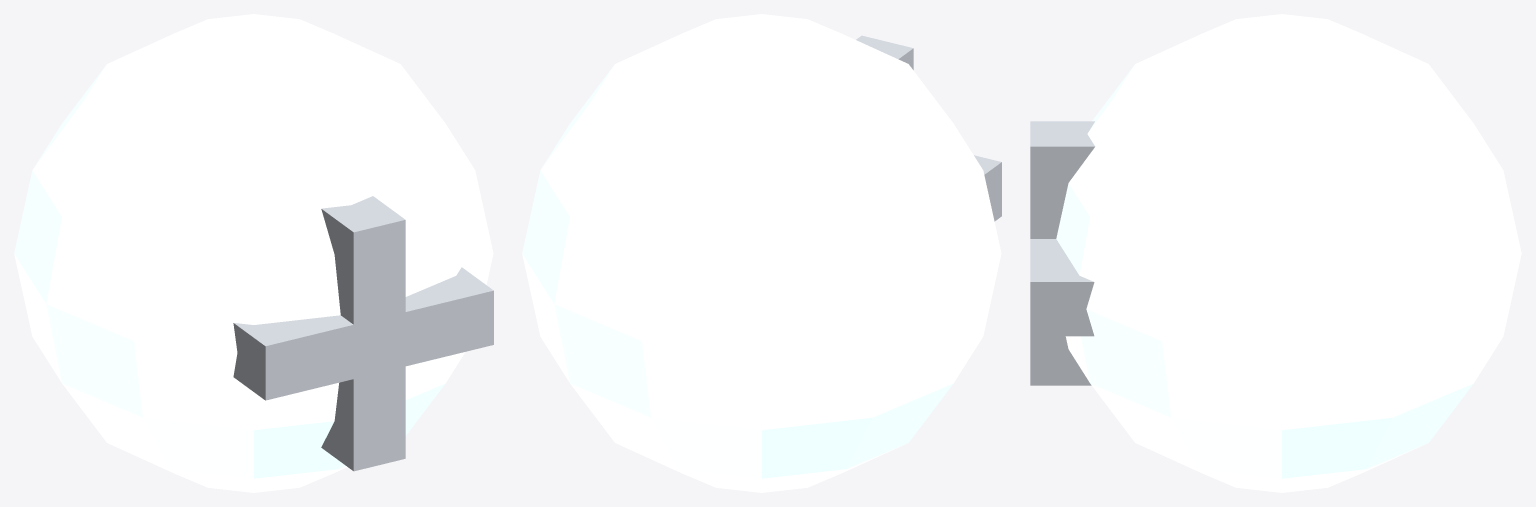
The model's file is PlusButton.fbx.
3 views of the same model, side by side, from view 1: azimuth 30°, elevation 25°; view 2: azimuth 150°, elevation 25°; view 3: azimuth 270°, elevation 25° (orthographic).
Parts seen in each view (by area): view 1: PlusButton; view 2: PlusButton; view 3: PlusButton.
Boxes of the visible parts, bbox=[...] form: PlusButton: bbox=[14, 14, 493, 492]; PlusButton: bbox=[522, 14, 1001, 492]; PlusButton: bbox=[1030, 14, 1521, 492].
Bounding box in the file's own units: 0.04 × 0.04 × 0.041.
